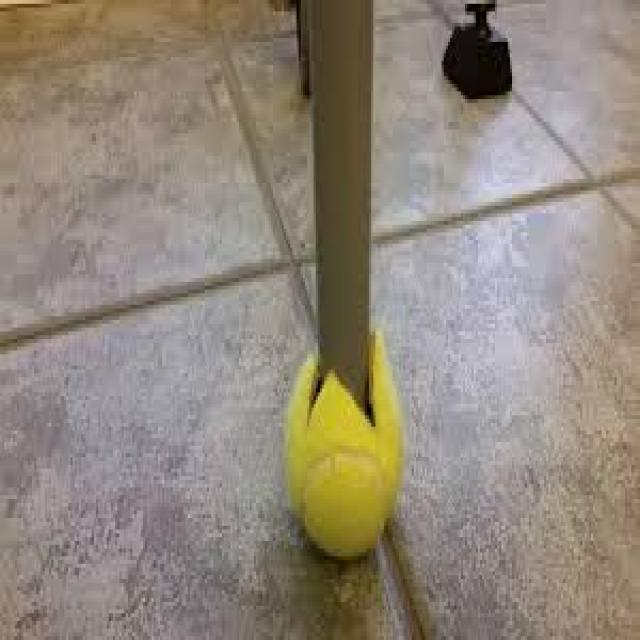Tennis-Ball: (282, 354, 404, 562)
